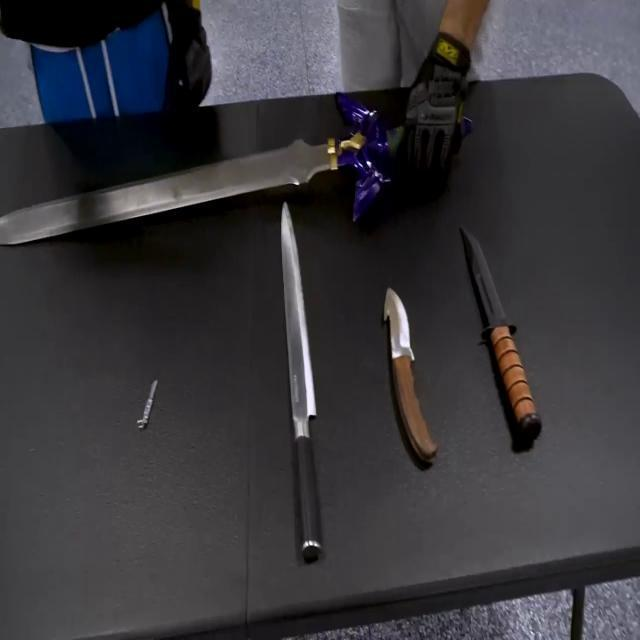Knife: (270, 199, 337, 567), (456, 216, 550, 458), (379, 264, 441, 486)
